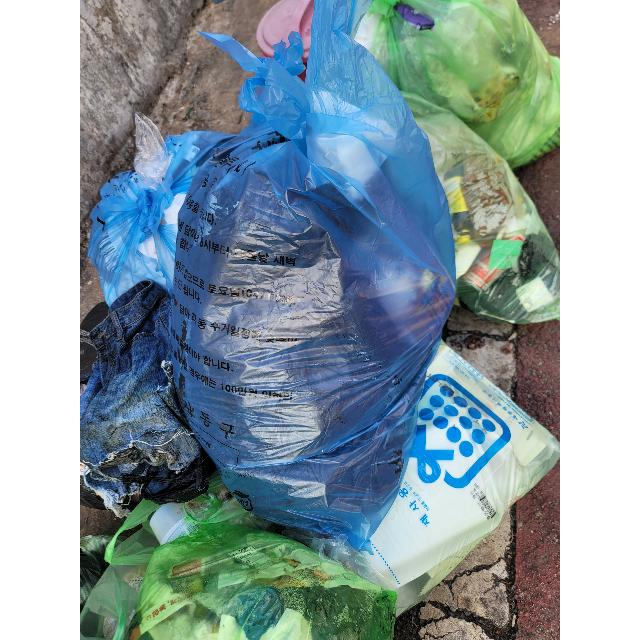general_trashbag: (170, 34, 454, 549), (360, 349, 557, 592), (106, 499, 389, 640), (403, 114, 560, 333), (379, 0, 560, 162)
other_trashbag: (80, 288, 200, 502), (99, 118, 219, 294)
